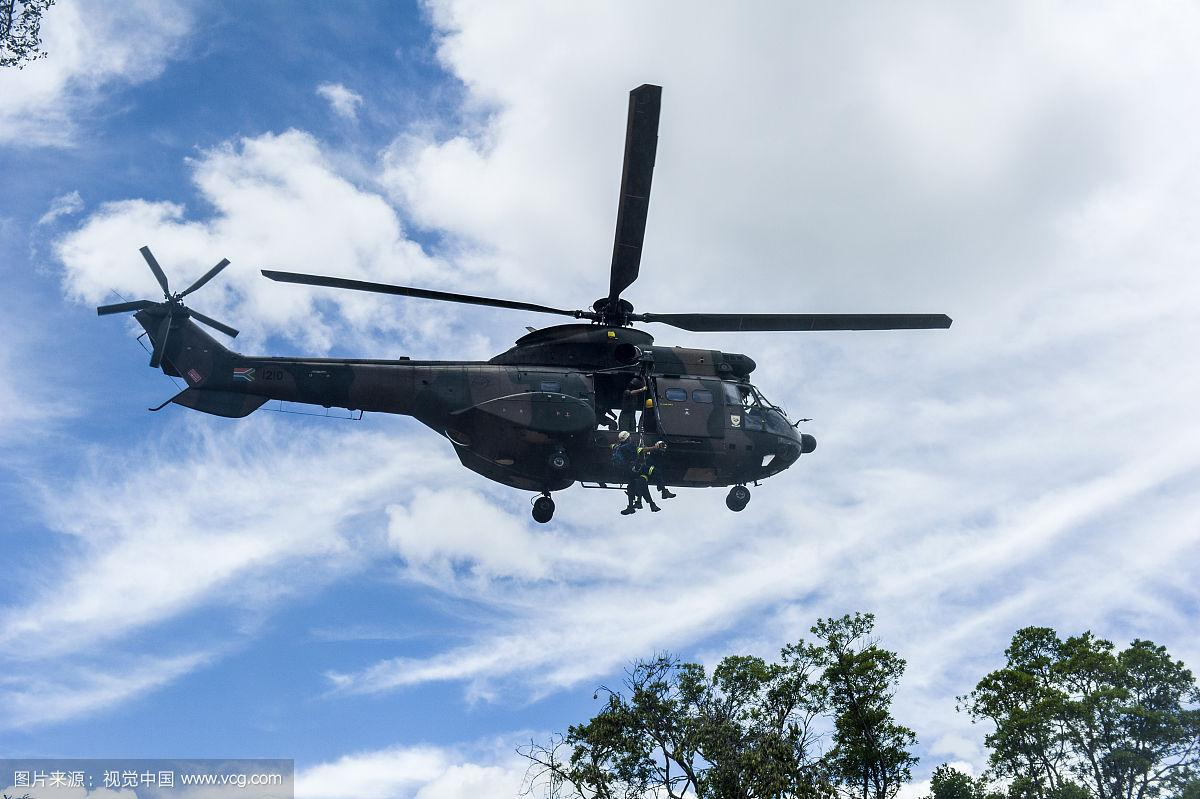airplane: (90, 81, 969, 517)
